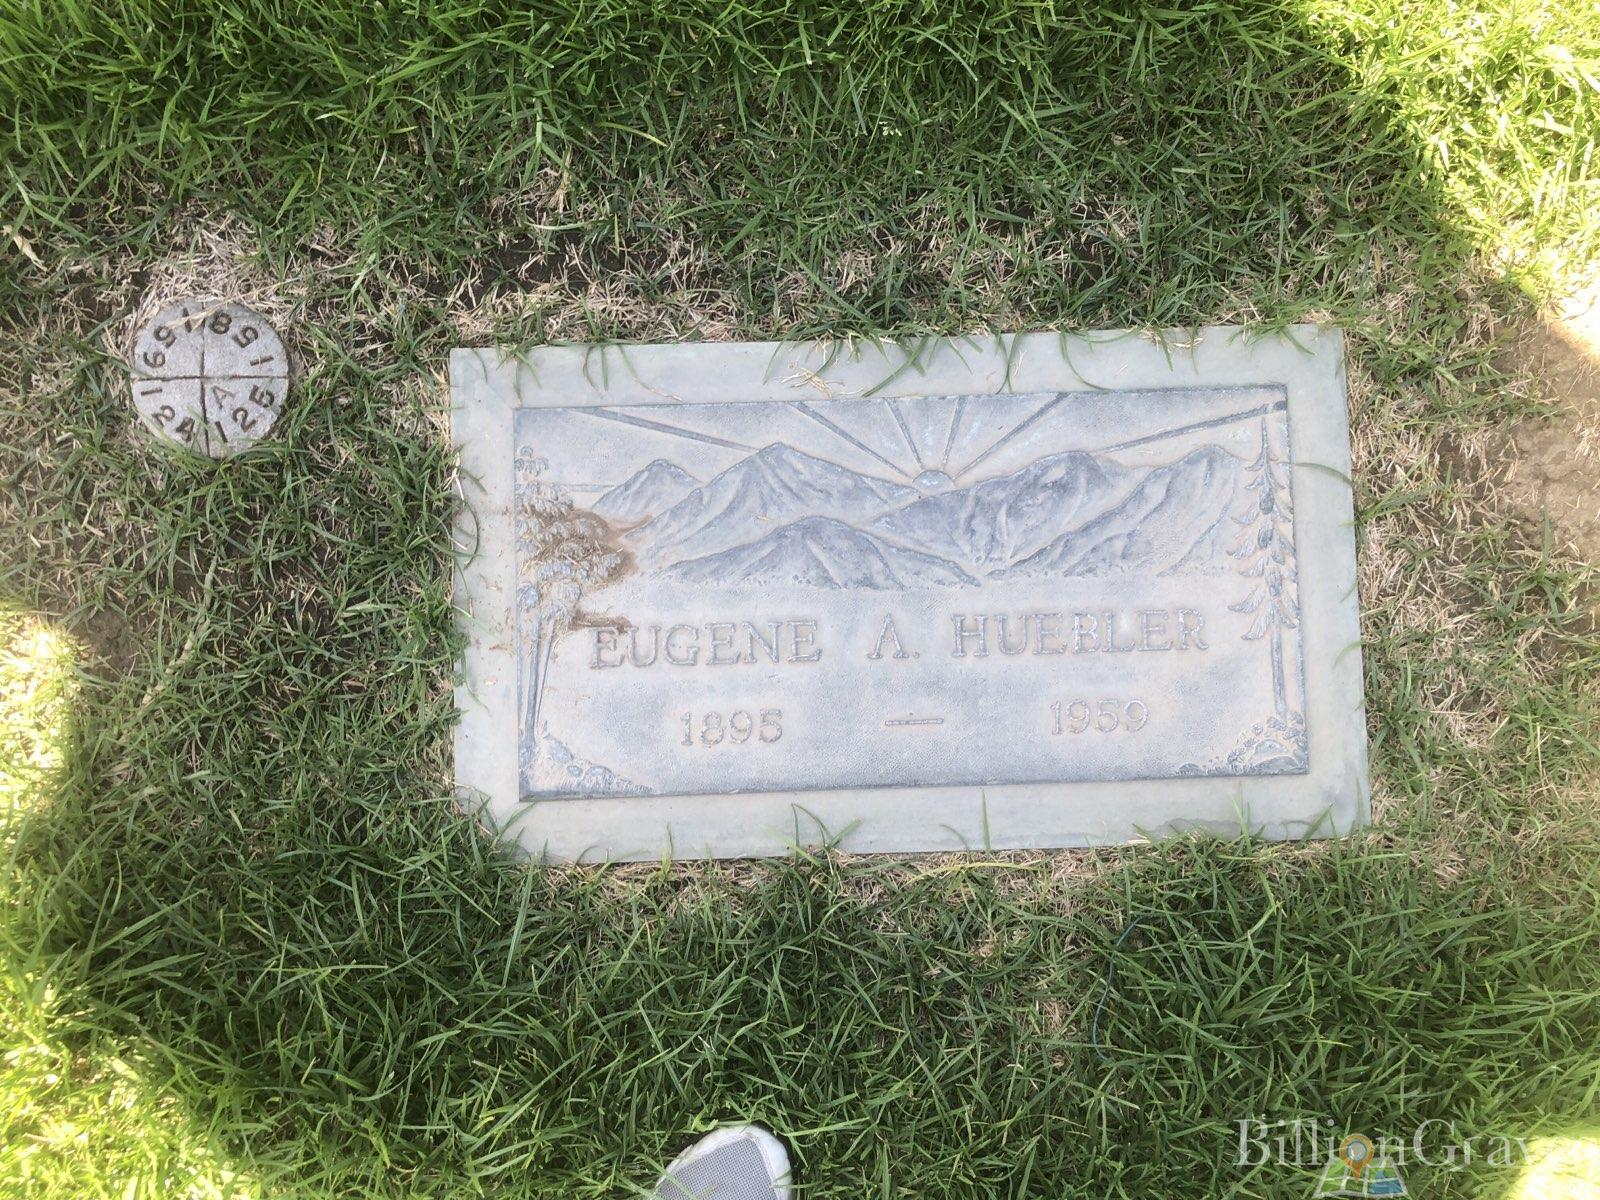flat: (380, 287, 1450, 908)
